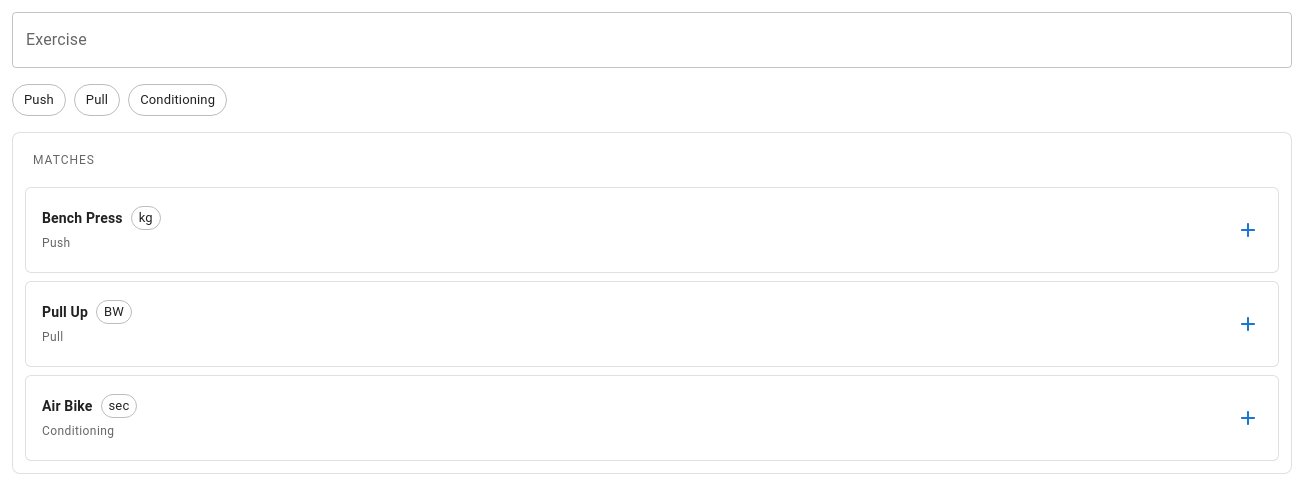
it: TemplateExercisePickerForm › filters the visible matches by selected categories
Click the button "Conditioning". click: [178, 100]
box: [128,84,227,116]
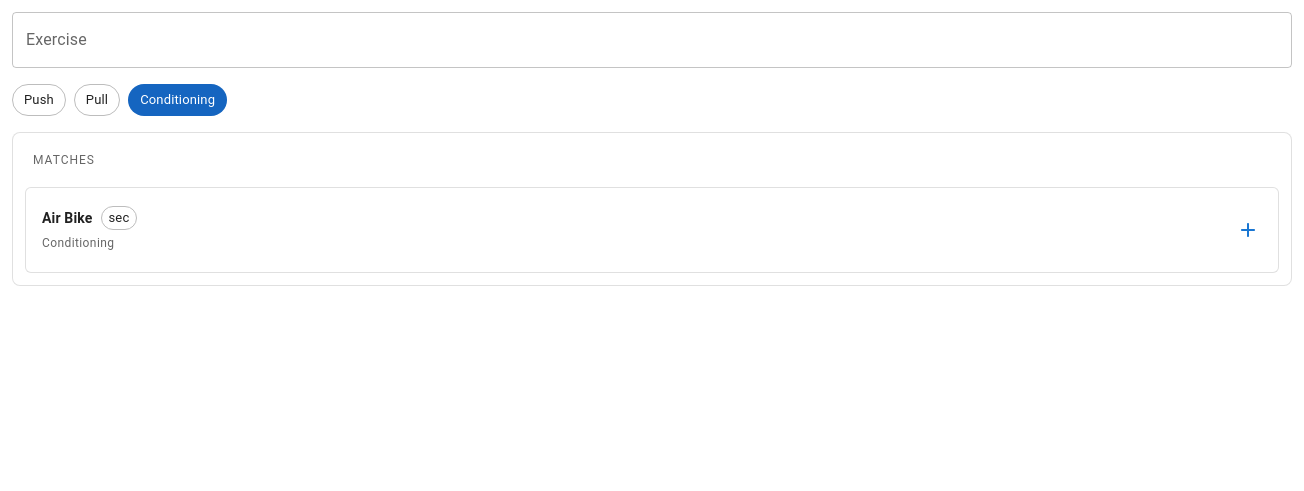
Expected: the text "Air Bike" is shown, [42,208,92,228]
Now the button "Bench Press" is gone
Now the button "Pull Up" is gone
